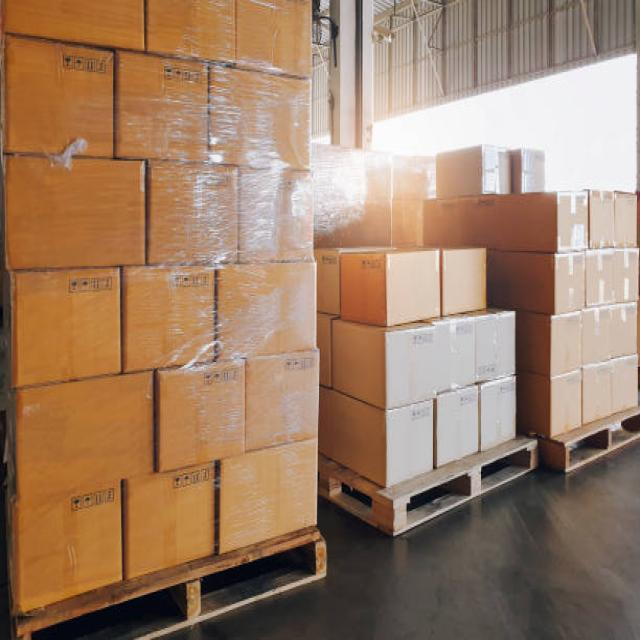Wooden-Pallets: (321, 409, 640, 541), (15, 523, 327, 640), (317, 430, 538, 541), (544, 401, 640, 490)
